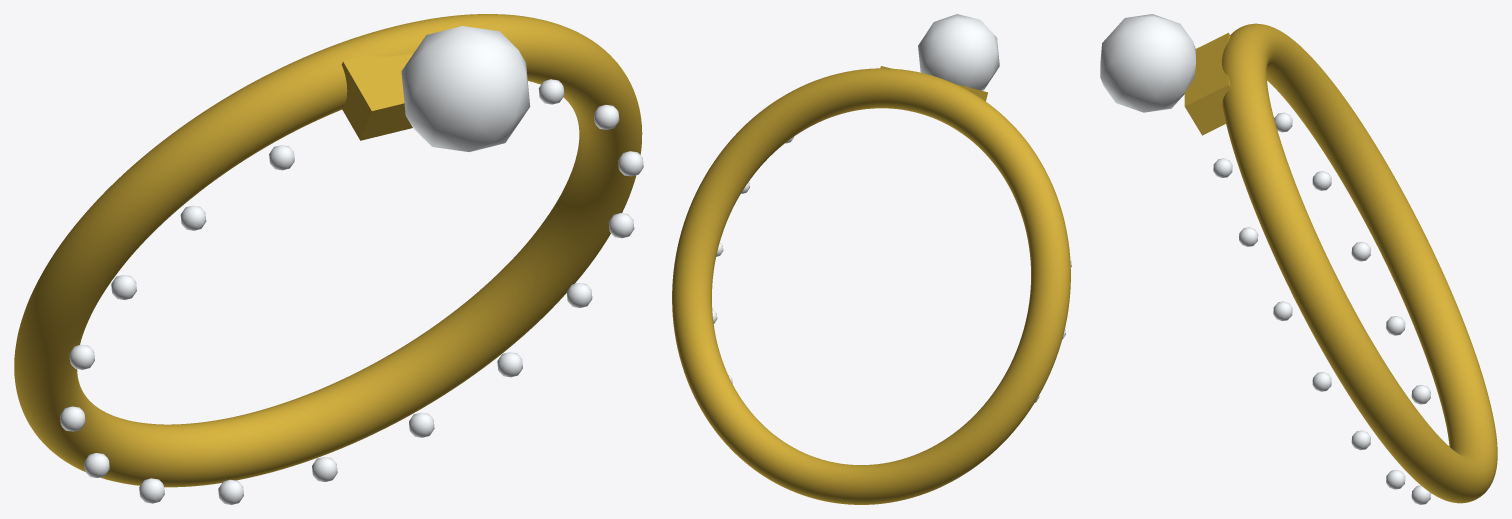
The model's file is aur-001-eternal-solitaire.glb.
The picture shows the model from 3 angles, left to right: view 1: azimuth 30°, elevation 25°; view 2: azimuth 150°, elevation 25°; view 3: azimuth 270°, elevation 25°; orthographic projection. The views are drawn at different scales.
Parts seen in each view (by area): view 1: gold_band, hero_diamond, gold_setting; view 2: gold_band, hero_diamond; view 3: gold_band, hero_diamond, gold_setting.
Boxes of the visible parts, <box> form: gold_band: <box>14,14,642,487</box>; hero_diamond: <box>401,26,530,152</box>; gold_setting: <box>341,27,483,140</box>; gold_band: <box>672,68,1070,504</box>; hero_diamond: <box>918,14,999,90</box>; gold_band: <box>1222,23,1497,503</box>; hero_diamond: <box>1100,14,1195,112</box>; gold_setting: <box>1184,32,1230,135</box>.
Size of the model in its own units: 2.31 by 2.22 by 1.74.
